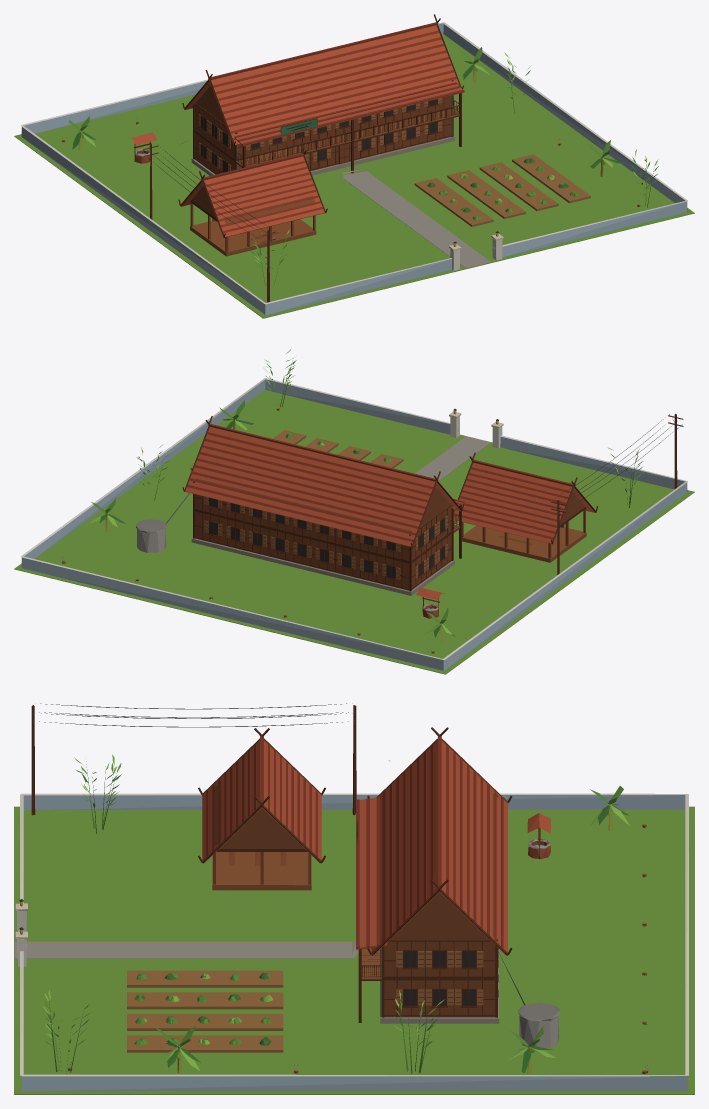
Rendered from hospital.glb.
The picture shows the model from 3 angles, top to bottom: view 1: azimuth 30°, elevation 25°; view 2: azimuth 150°, elevation 25°; view 3: azimuth 270°, elevation 25°; orthographic projection. The views are drawn at different scales.
Visible parts, largest first — view 1: body, windows; view 2: body, windows; view 3: body, windows.
Part boxes in pixels (x1,y1,x2,y2): body: (14,14,694,318); windows: (201,99,498,246); body: (14,349,694,674); windows: (209,410,498,578); body: (14,703,694,1094); windows: (20,901,475,1005).
Size of the model in its own units: 47.9 by 11.68 by 47.9.
